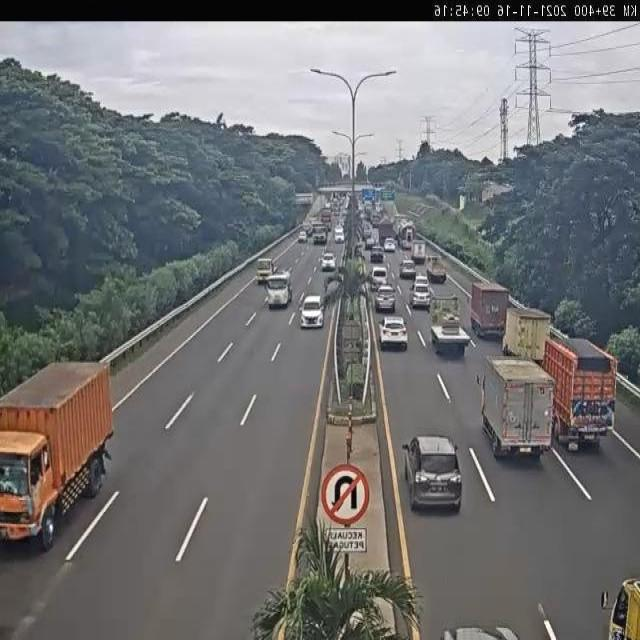Car: (401, 434, 464, 510), (607, 577, 640, 639), (441, 624, 520, 640), (378, 315, 408, 352), (299, 294, 325, 328), (374, 284, 396, 313), (410, 280, 430, 309), (256, 258, 274, 283), (370, 266, 388, 290), (399, 258, 416, 279), (321, 252, 337, 272), (370, 245, 384, 262), (354, 241, 366, 258), (384, 237, 396, 253), (334, 226, 344, 243), (366, 235, 376, 250), (298, 230, 307, 243)
Truck: (0, 357, 113, 544), (543, 336, 616, 448), (477, 356, 554, 460), (503, 306, 553, 362), (428, 296, 471, 354), (470, 282, 509, 340), (265, 272, 292, 309), (424, 256, 449, 282), (412, 240, 427, 260)
